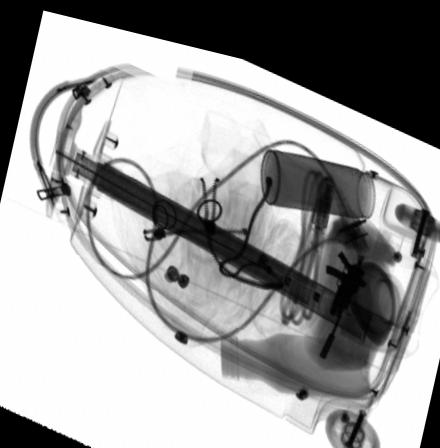Gun: (318, 233, 368, 343)
